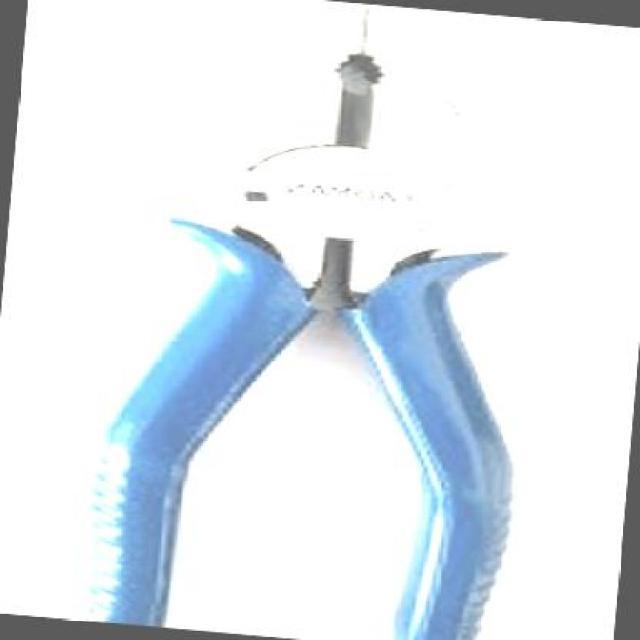pliers: (50, 0, 575, 638)
